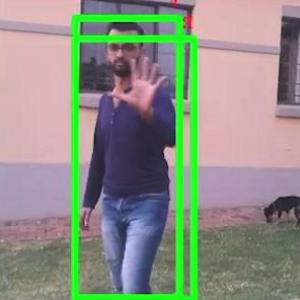follow_hand: (108, 48, 174, 118)
